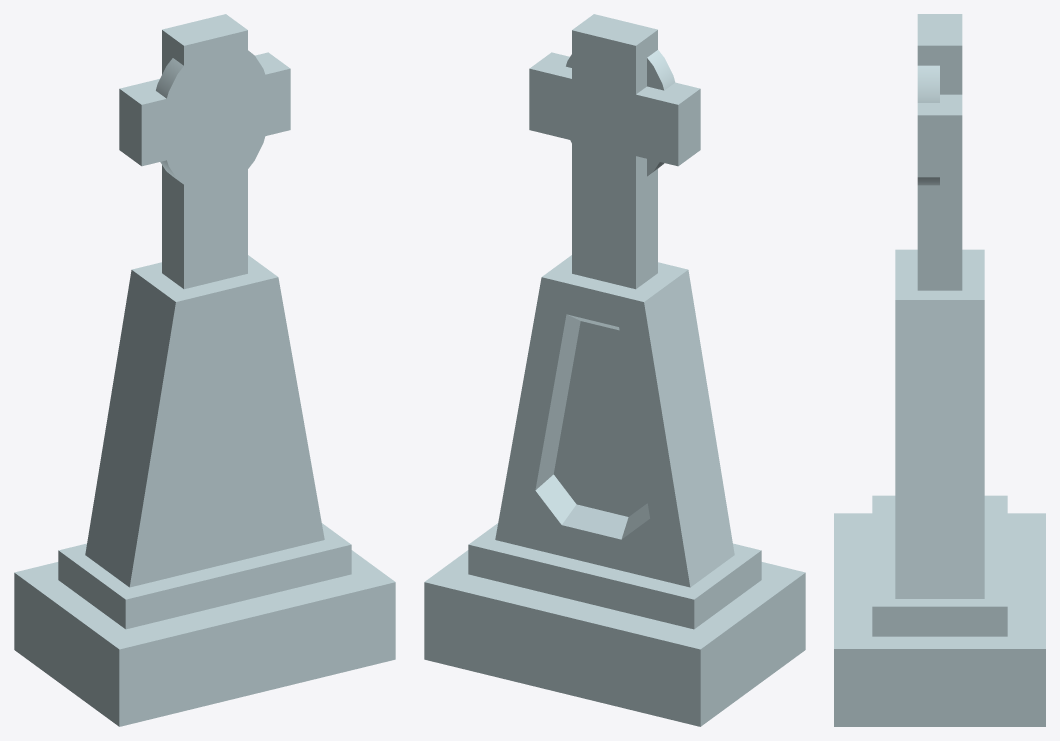
The model's file is gravestoneCross.glb.
The picture shows the model from 3 angles, left to right: view 1: azimuth 30°, elevation 25°; view 2: azimuth 150°, elevation 25°; view 3: azimuth 270°, elevation 25°; orthographic projection.
Visible parts, largest first — view 1: gravestoneCross; view 2: gravestoneCross; view 3: gravestoneCross.
Part boxes in pixels (x1=…): gravestoneCross: x1=14, y1=14, x2=395, y2=726; gravestoneCross: x1=424, y1=14, x2=805, y2=726; gravestoneCross: x1=834, y1=14, x2=1045, y2=726.
Bounding box in the file's own units: 0.4415 × 0.9543 × 0.2913.
